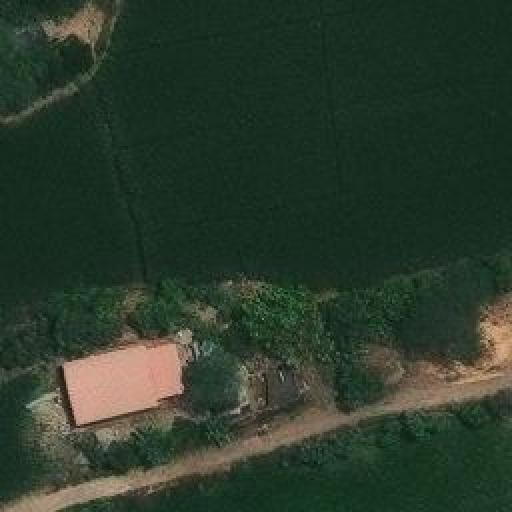manzanas: (53, 331, 200, 432)
